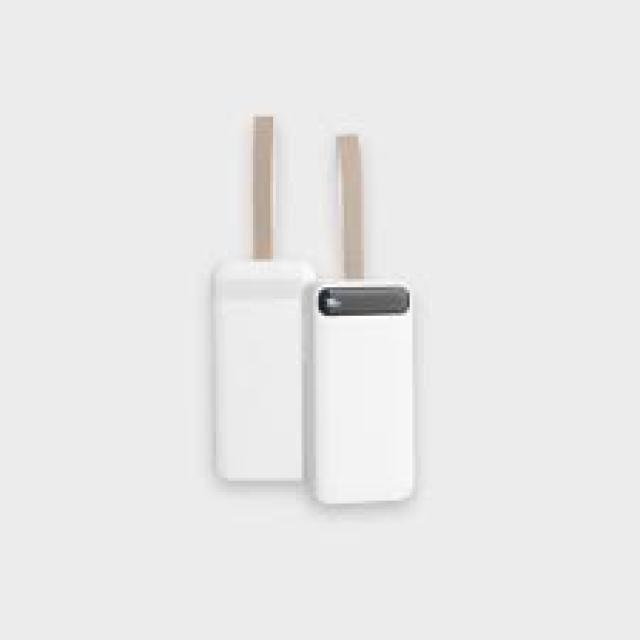power_bank: (298, 277, 418, 510), (208, 255, 312, 488)
